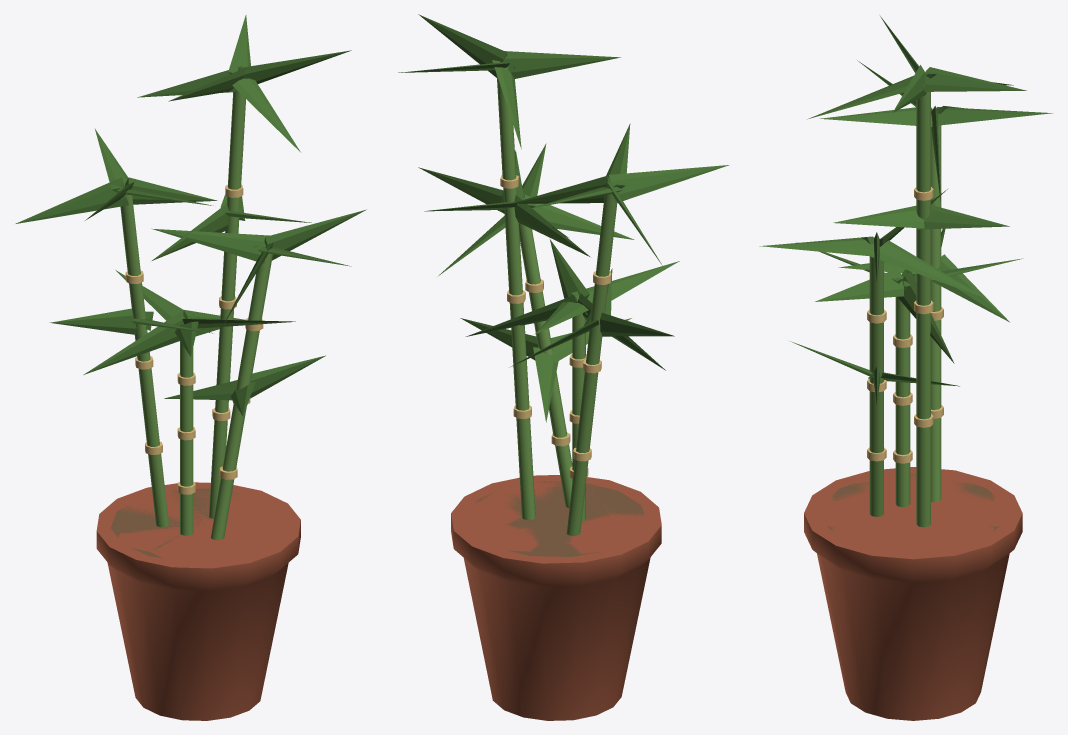
File: plant_bamboo_pot.glb
3 views of the same model, side by side, from view 1: azimuth 30°, elevation 25°; view 2: azimuth 150°, elevation 25°; view 3: azimuth 270°, elevation 25° (orthographic). The views are drawn at different scales.
Parts seen in each view (by area): view 1: plant_bamboo_pot; view 2: plant_bamboo_pot; view 3: plant_bamboo_pot.
Part boxes in pixels (left/top/right/bottom): plant_bamboo_pot: left=15, top=15, right=366, bottom=720; plant_bamboo_pot: left=398, top=14, right=729, bottom=720; plant_bamboo_pot: left=759, top=16, right=1052, bottom=720.
Bounding box in the file's own units: 0.6979 × 1.39 × 0.5652.
